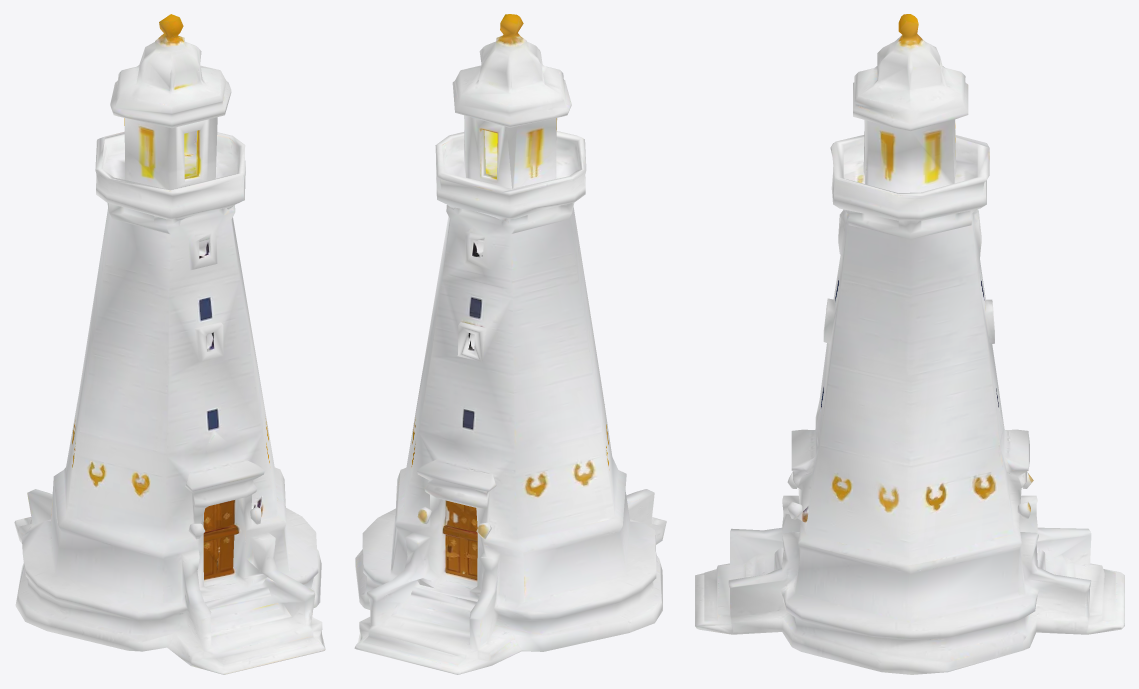
The model's file is pharos.glb.
The picture shows the model from 3 angles, left to right: view 1: azimuth 30°, elevation 25°; view 2: azimuth 150°, elevation 25°; view 3: azimuth 270°, elevation 25°; orthographic projection. The views are drawn at different scales.
Visible parts, largest first — view 1: 0; view 2: 0; view 3: 0.
Boxes of the visible parts, left/top/right/bottom form: 0: left=14, top=14, right=325, bottom=674; 0: left=354, top=14, right=666, bottom=674; 0: left=695, top=14, right=1124, bottom=674.
Bounding box in the file's own units: 0.9981 × 1.91 × 1.26.
1 material, 1 textured.
